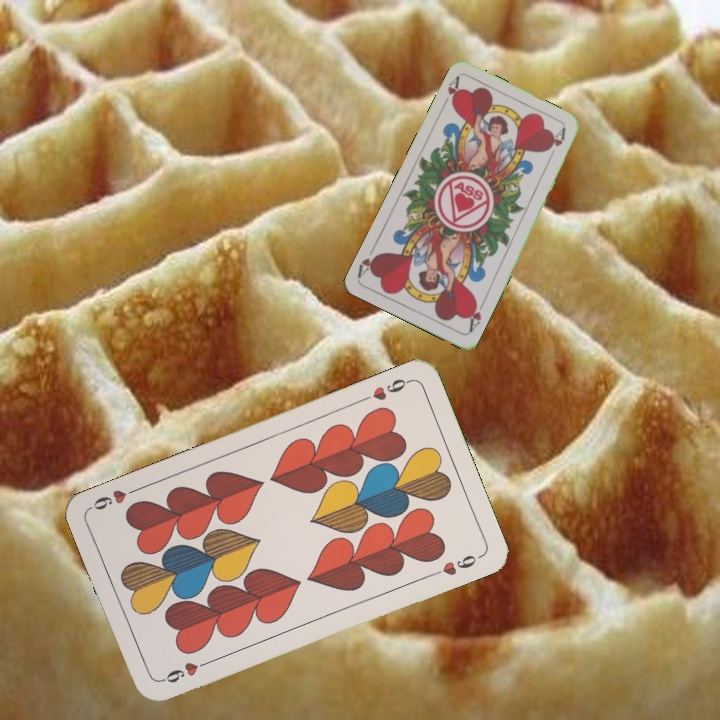H9: (156, 656, 214, 686), (357, 374, 414, 404)
HA: (438, 73, 464, 111), (464, 296, 487, 335)
